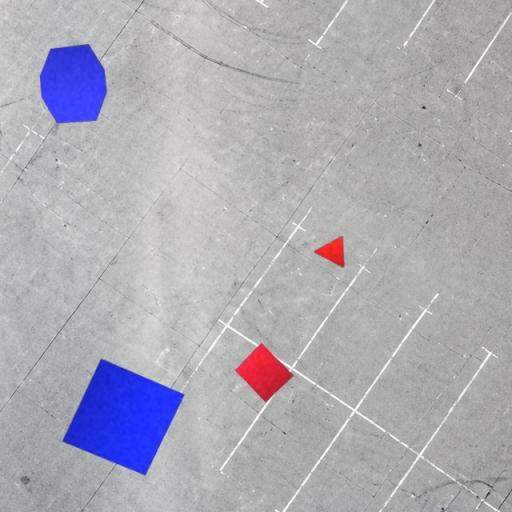BLUE_SQUARE: (62, 358, 186, 476)
RED_SQUARE: (234, 342, 294, 404)
